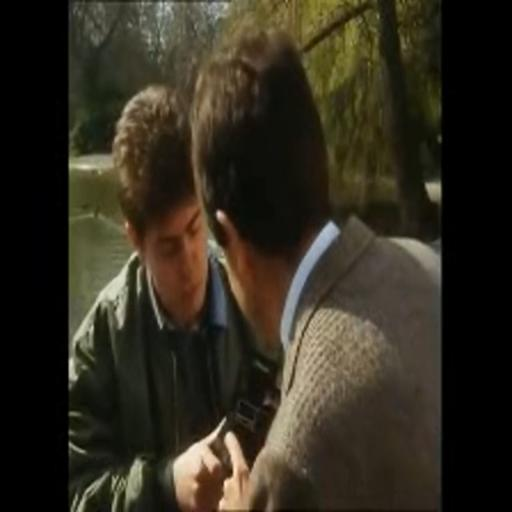nao-violencia: (70, 23, 443, 512)
